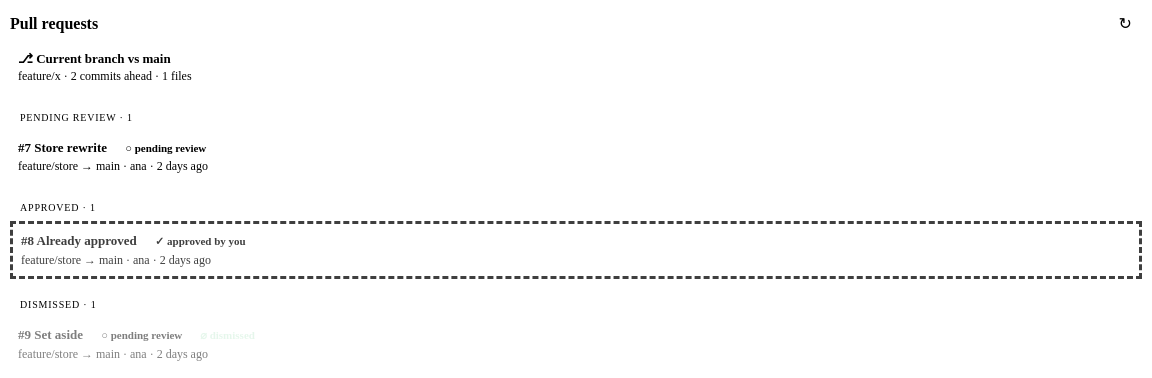
Test: PullsPanel › opens the current branch comparison and asks to draw the map when there is none
Click the button with test id "pull-branch" at [103, 58], box [10,43,1142,92]
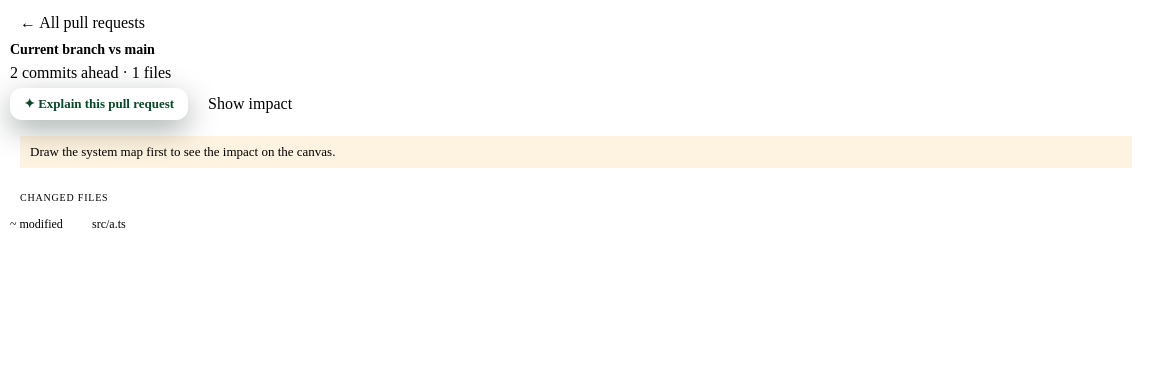
Expected: the text with test id "pull-no-map" shows "Draw the system map first", [30,144,335,159]
Expected: the list item with test id "pull-file-src/a.ts" is shown, [10,217,126,231]
